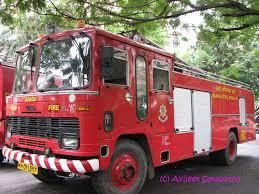Emergency-Vehicles: (12, 30, 254, 179)
